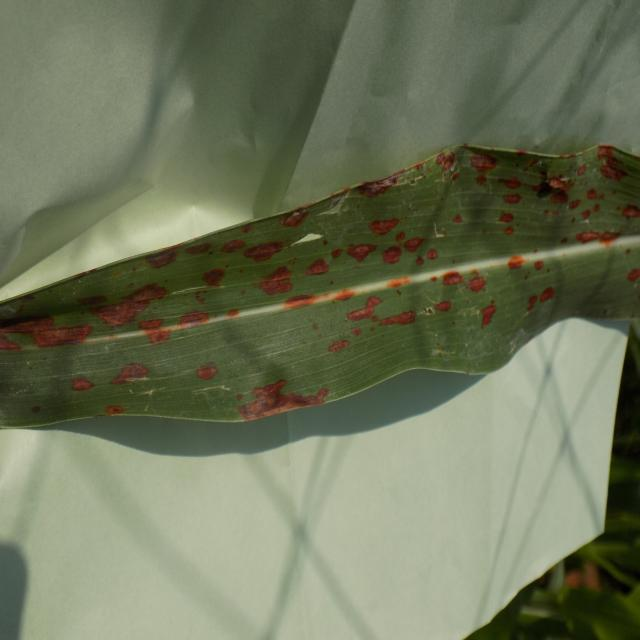millet_rust: (0, 142, 640, 428)
